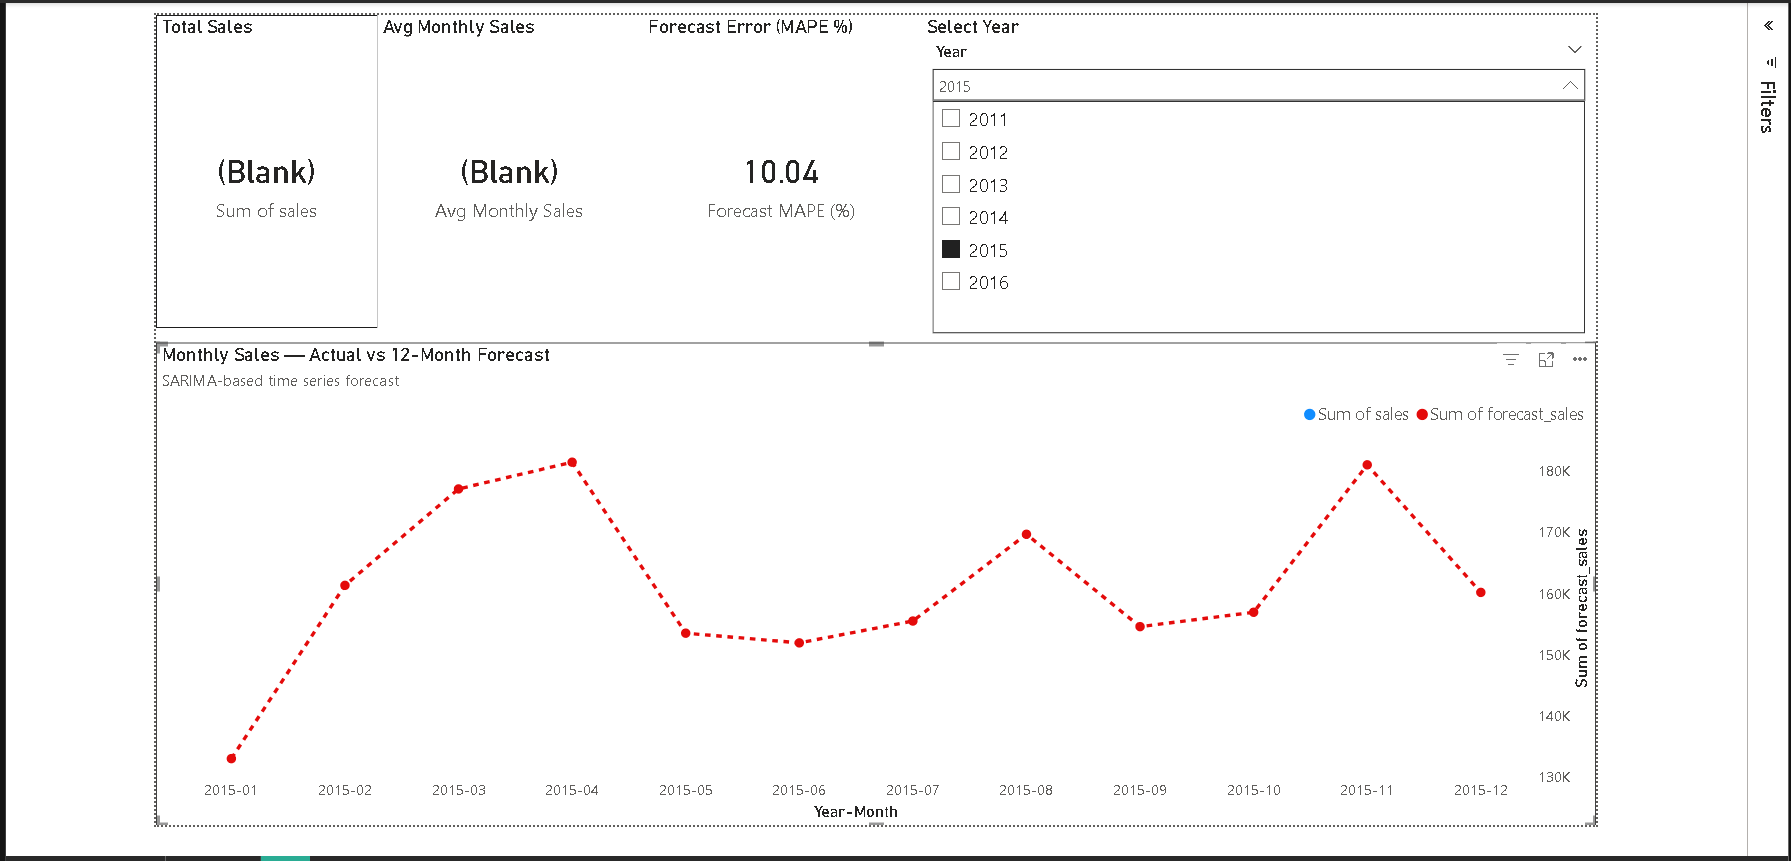

The page's visual inventory and layout, read from the dashboard file:
{"tool":"powerbi","page":{"name":"Page 1","canvas":[1280,720],"ordinal":0},"visuals":[{"type":"lineChart","title":"Monthly Sales — Actual vs 12-Month Forecast","fields":{"Category":["Calendar.Year-Month"],"Y":["Sum(superstore_sales_cleaned.sales)"],"Y2":["Sum(sales_forecast_12_months.forecast_sales)"]},"box":[0,291.4,1280,430],"z":0},{"type":"card","title":"Total Sales","fields":{"Values":["Sum(superstore_sales_cleaned.sales)"]},"box":[0,0,196.2,277.5],"z":1000},{"type":"card","title":"Avg Monthly Sales","fields":{"Values":["superstore_sales_cleaned.Avg Monthly Sales"]},"box":[196.2,0,235,278.8],"z":2000},{"type":"card","title":"Forecast Error (MAPE %)","fields":{"Values":["superstore_sales_cleaned.Forecast MAPE (%)"]},"box":[432.2,0,247.8,277.8],"z":3000},{"type":"slicer","title":"Select Year","fields":{"Values":["Calendar.Year"]},"box":[680,0,600,277.5],"z":4000}]}

Visuals, with their boxes in screenshot pixels (x1, y1, x2, y2):
"Monthly Sales — Actual vs 12-Month Forecast" lineChart: left=0, top=344, right=1513, bottom=853
"Total Sales" card: left=0, top=0, right=232, bottom=328
"Avg Monthly Sales" card: left=232, top=0, right=510, bottom=329
"Forecast Error (MAPE %)" card: left=511, top=0, right=804, bottom=328
"Select Year" slicer: left=804, top=0, right=1513, bottom=328
